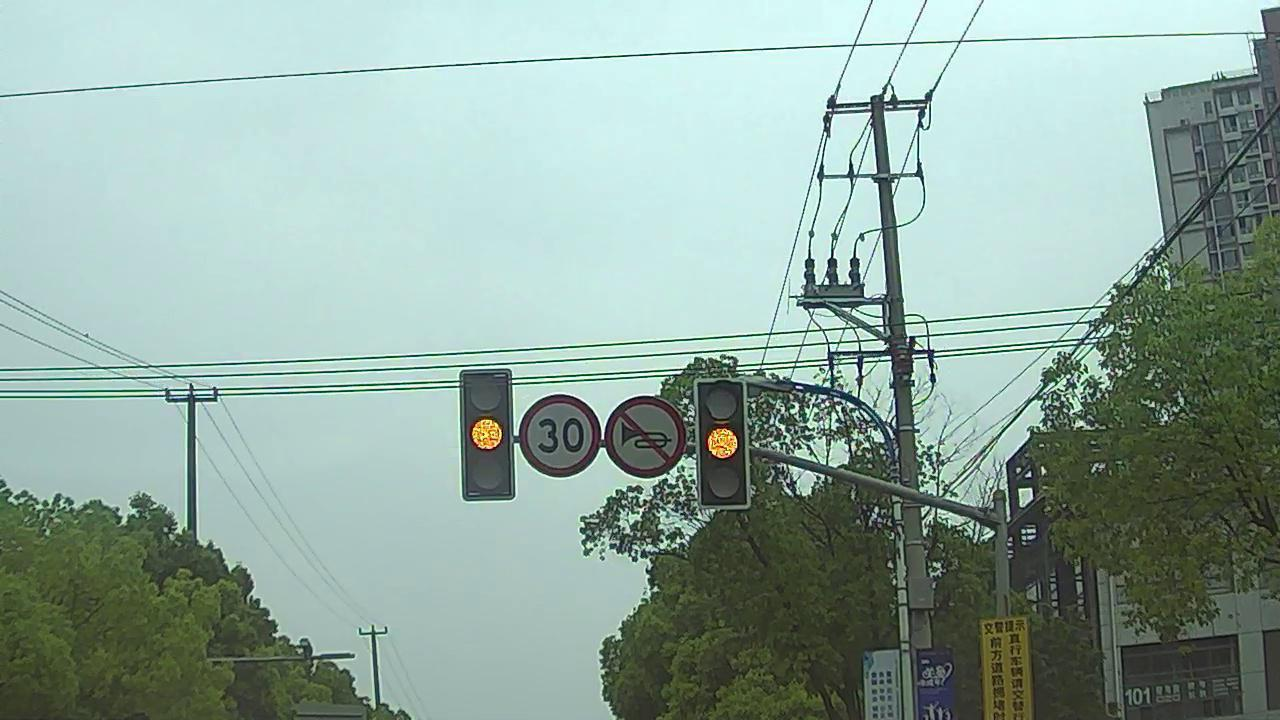traffic_light: (458, 372, 512, 498), (697, 381, 748, 506)
